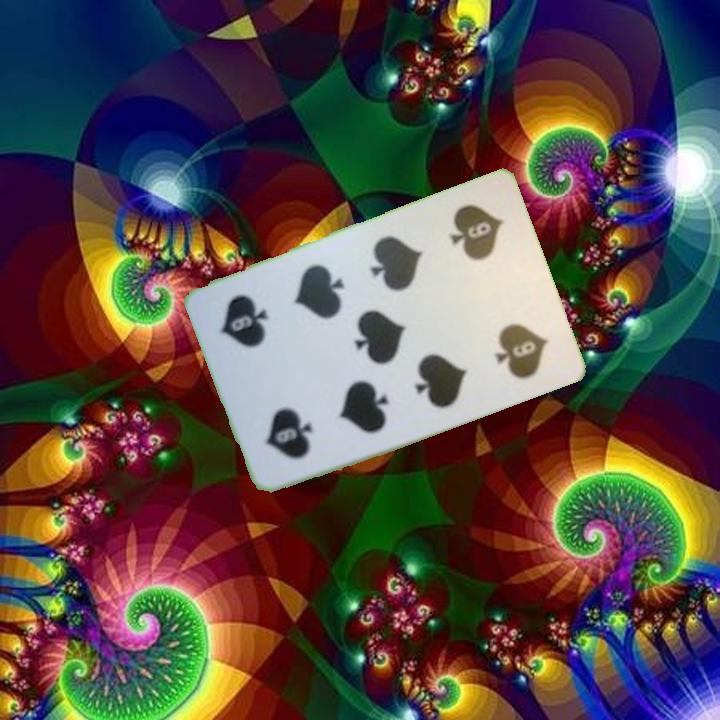s_9.png: (233, 357, 347, 480), (421, 186, 535, 308)
